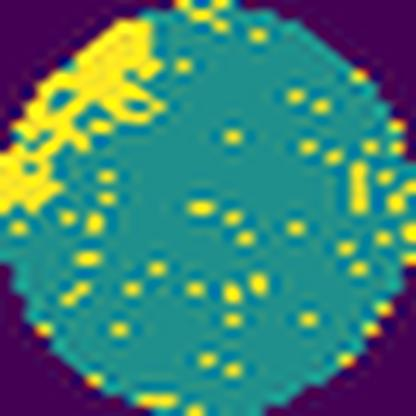Edge-Loc: (0, 13, 170, 224)
